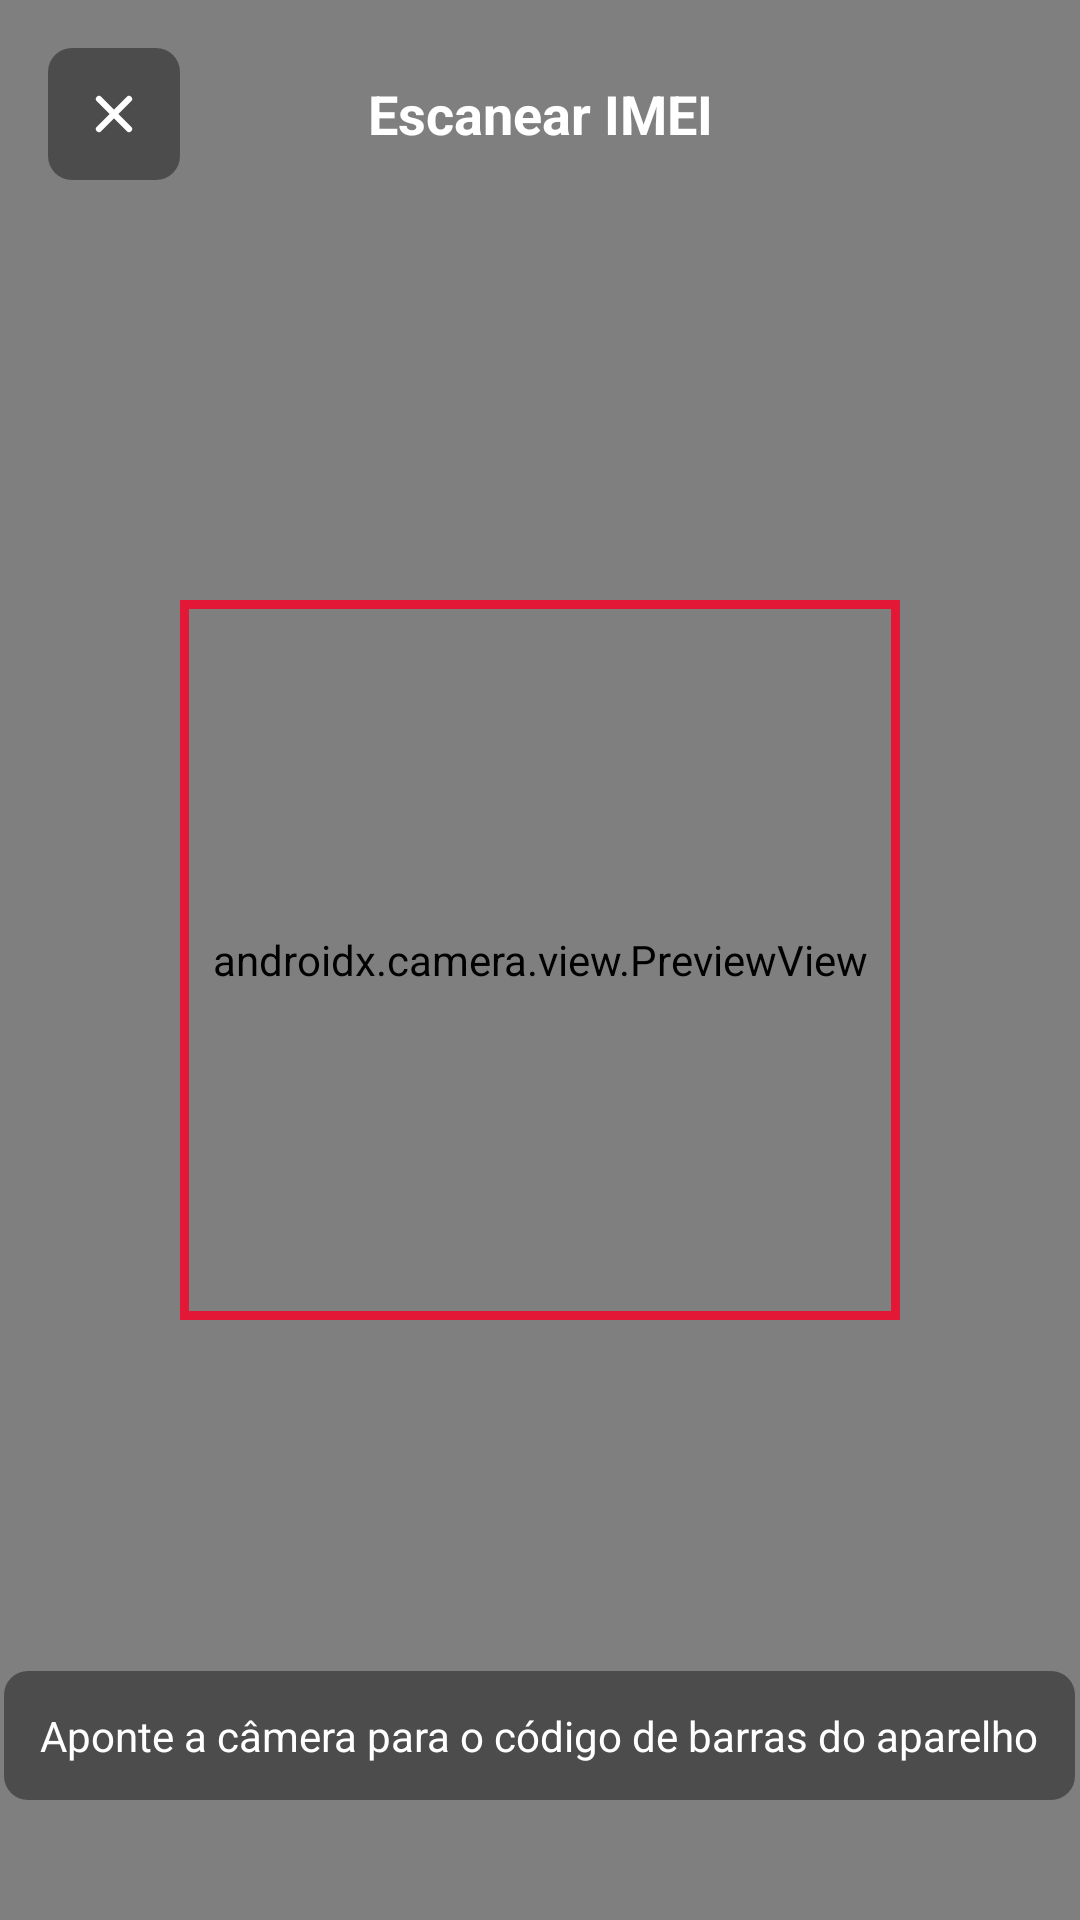

Where to tap for icons on this 1080*1920 app screen, as (x,y):
Fechar scanner: (114,114)
